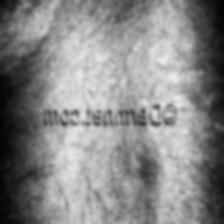Unclassified: (0, 0, 38, 59), (141, 36, 171, 65)
